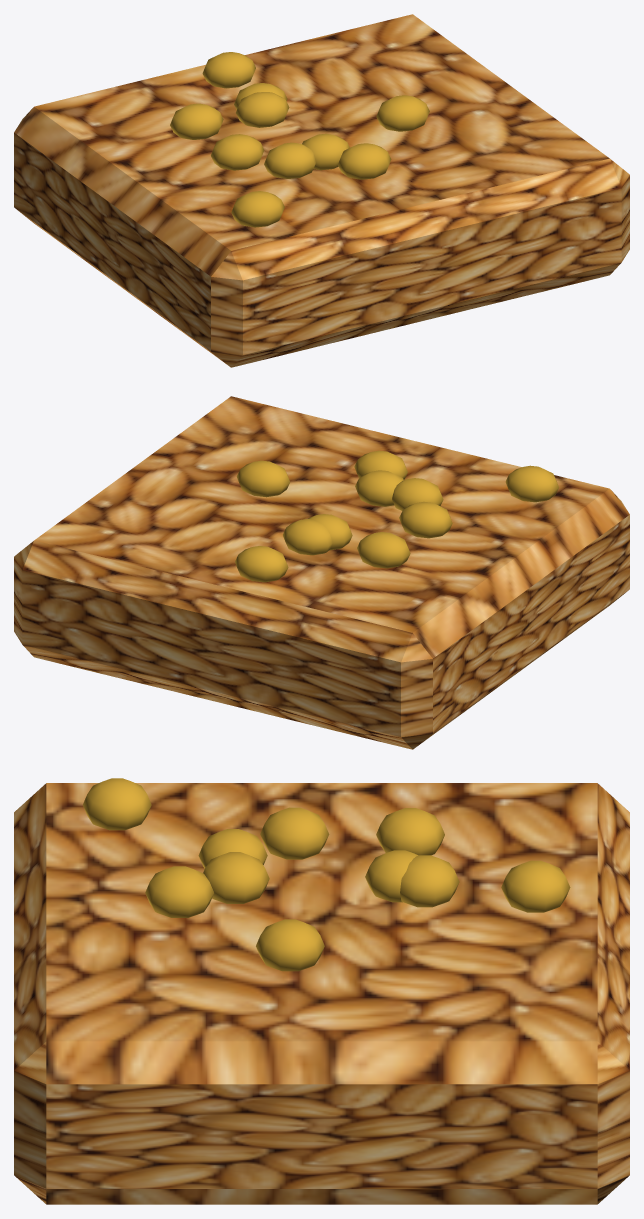
Rendered from CoopCozy_Fill4.fbx.
The picture shows the model from 3 angles, top to bottom: view 1: azimuth 30°, elevation 25°; view 2: azimuth 150°, elevation 25°; view 3: azimuth 270°, elevation 25°; orthographic projection. The views are drawn at different scales.
Visible parts, largest first — view 1: CoopCozy_Fill4; view 2: CoopCozy_Fill4; view 3: CoopCozy_Fill4.
Part boxes in pixels (left/top/right/bottom): CoopCozy_Fill4: left=14, top=14, right=629, bottom=367; CoopCozy_Fill4: left=14, top=396, right=629, bottom=749; CoopCozy_Fill4: left=14, top=778, right=629, bottom=1204.
Size of the model in its own units: 0.45 by 0.146 by 0.41.
